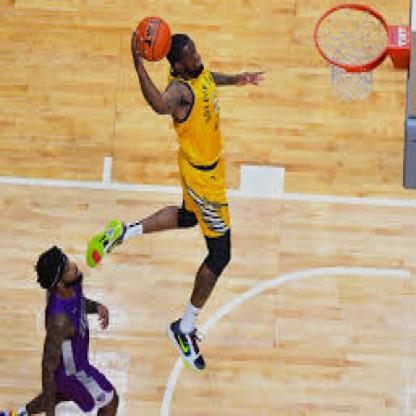basketball: (134, 17, 172, 62)
rim: (309, 0, 392, 75)
